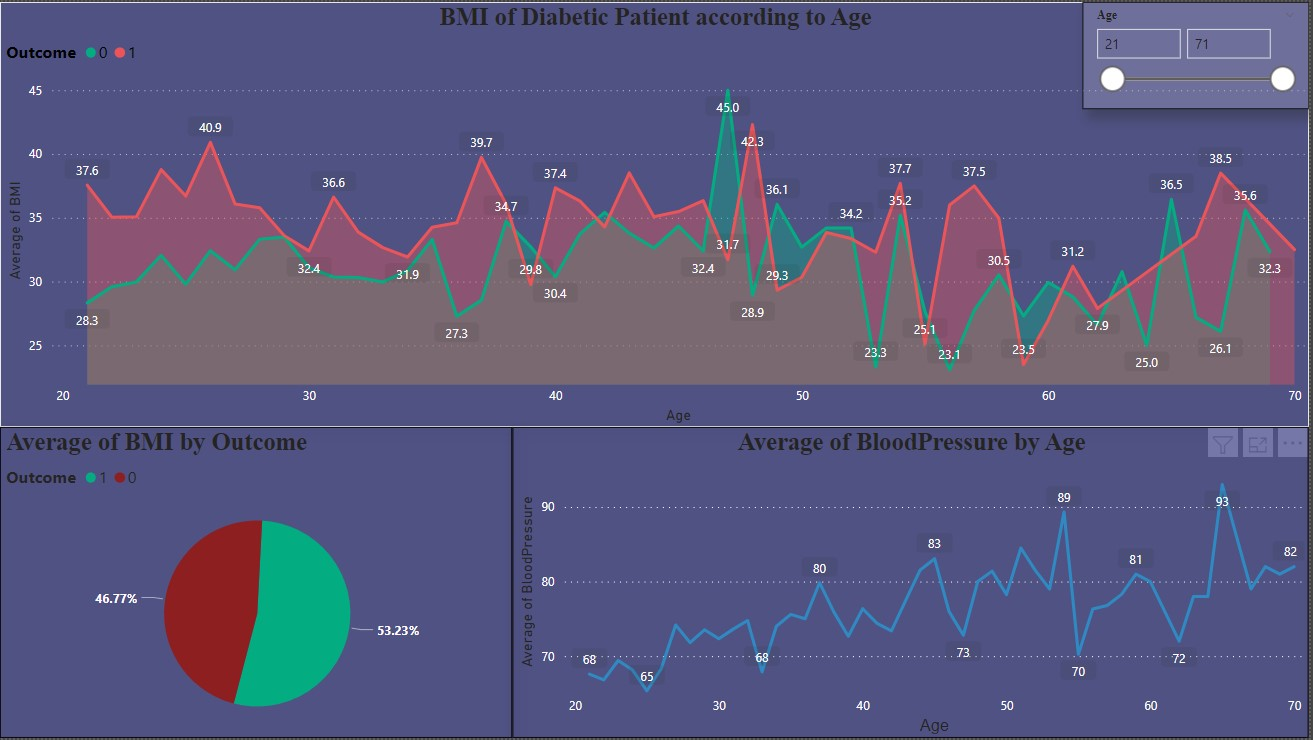

The dashboard page shown, as its layout file describes it:
{"tool":"powerbi","page":{"name":"Page 2","canvas":[1280,720],"ordinal":1},"visuals":[{"type":"areaChart","title":"BMI of Diabetic Patient according to Age","fields":{"Y":["Avg(df_pima.BMI)"],"Series":["df_pima.Outcome"],"Category":["df_pima.Age"]},"box":[0,0,1279.9,415.6],"z":0},{"type":"donutChart","fields":{"Category":["df_pima.Outcome"],"Y":["Avg(df_pima.BMI)"]},"box":[0,415.6,501.2,304.4],"z":5000},{"type":"lineChart","fields":{"Category":["df_pima.Age"],"Y":["Avg(df_pima.BloodPressure)"]},"box":[501.2,415.6,778.7,304.4],"z":6000},{"type":"slicer","fields":{"Values":["df_pima.Age"]},"box":[1058.6,0,221.3,105.1],"z":7000}]}

Visuals, with their boxes in screenshot pixels (x1, y1, x2, y2), scaled from the page's 1280x720 canvas onto the 1313x740 screenshot:
"BMI of Diabetic Patient according to Age" areaChart: <bbox>0, 0, 1312, 427</bbox>
donutChart - df_pima.Outcome x Avg(df_pima.BMI): <bbox>0, 427, 514, 739</bbox>
lineChart - df_pima.Age x Avg(df_pima.BloodPressure): <bbox>514, 427, 1312, 739</bbox>
slicer - df_pima.Age: <bbox>1086, 0, 1312, 108</bbox>
